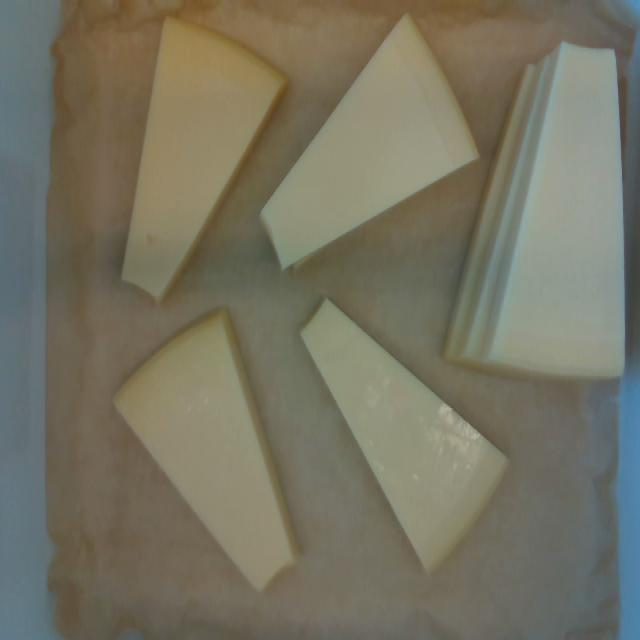Cheese: (262, 15, 478, 267), (306, 301, 506, 568), (116, 316, 294, 588), (122, 20, 284, 300), (488, 43, 622, 376)
